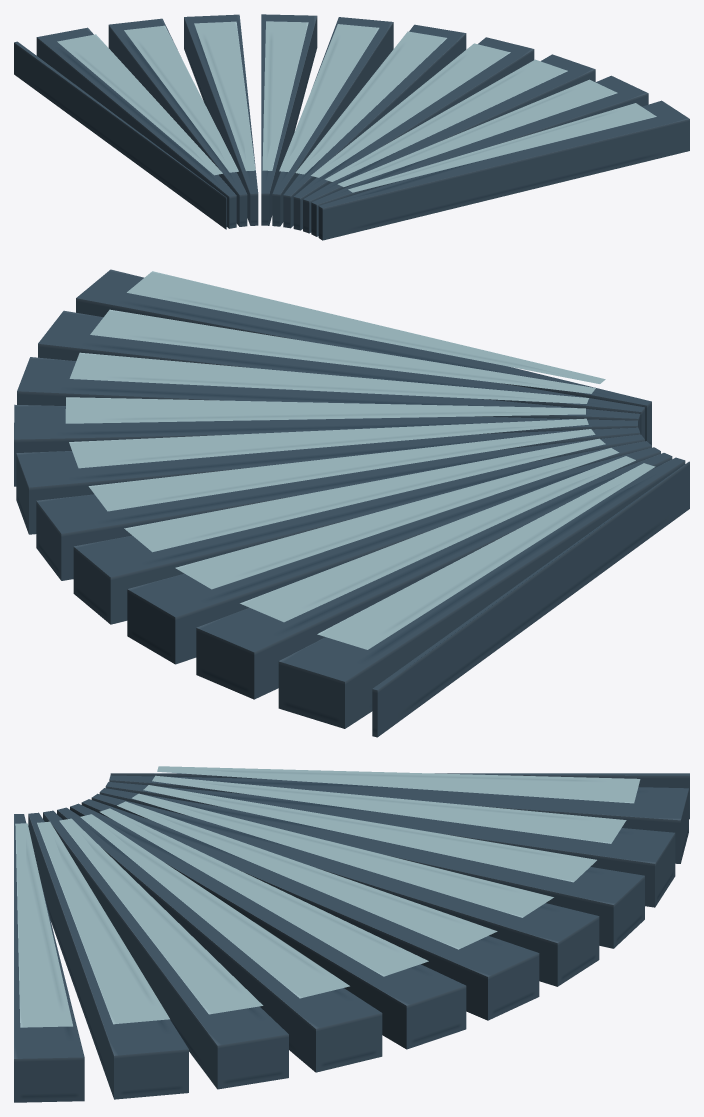
File: sc_tread_curve_left_8.obj
3 renders of one model, top to bottom at view 1: azimuth 30°, elevation 25°; view 2: azimuth 150°, elevation 25°; view 3: azimuth 270°, elevation 25°, orthographic. The views are drawn at different scales.
Bounding box in the file's own units: 17.5 × 1.56 × 17.5.
Materials: 1 (1 with a texture image).
